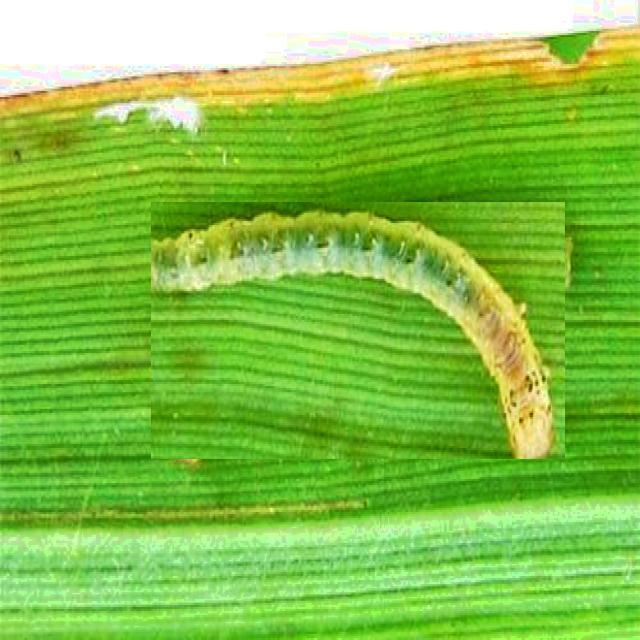leaf-folder: (151, 202, 565, 459)
